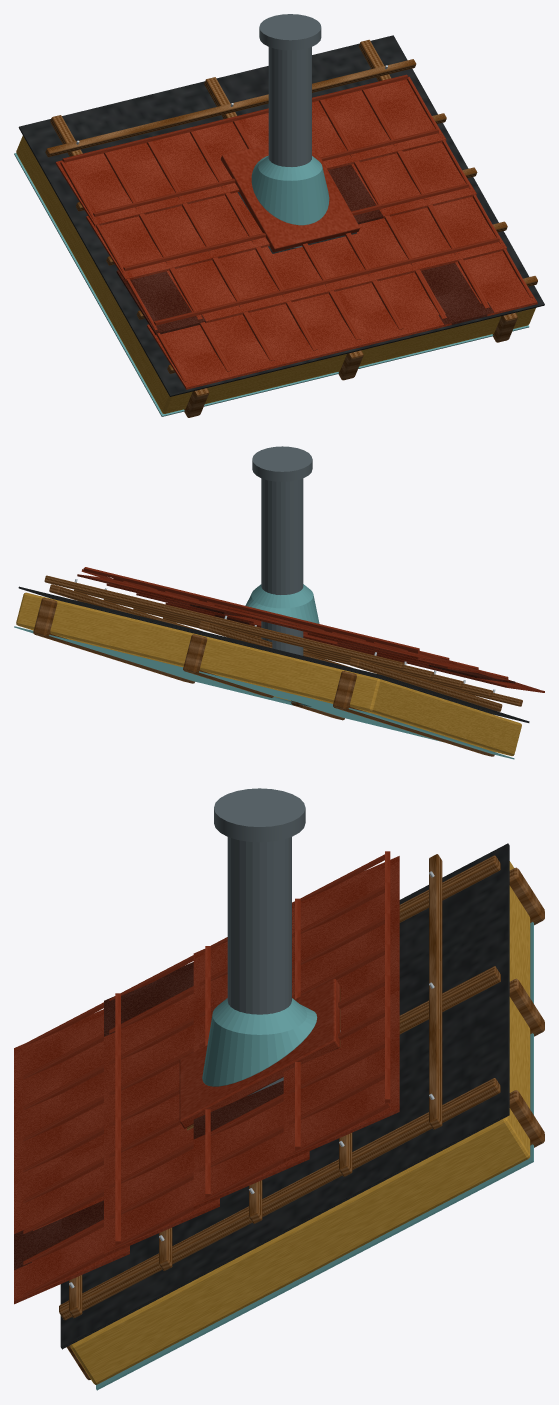
Rendered from modell.glb.
3 views of the same model, one above another, from view 1: azimuth 30°, elevation 25°; view 2: azimuth 150°, elevation 25°; view 3: azimuth 270°, elevation 25° (orthographic). The views are drawn at different scales.
Parts seen in each view (by area): view 1: s11-deckziegel_deckung, s11-zusatzebene_zusatzebene, s11-daemmung_daemmung, s11-rohr_, s11-deckziegel_deckung.001, s11-lattung_lattung, s11-formteil_deckung, s11-formteil_deckung.001, s11-luftdichtheit_luftdichtheit, s11-sparren_tragwerk; view 2: s11-daemmung_daemmung, s11-lattung_lattung, s11-rohr_, s11-deckziegel_deckung, s11-sparren_tragwerk, s11-luftdichtheit_luftdichtheit, s11-zusatzebene_zusatzebene, s11-formteil_deckung.001, s11-deckziegel_deckung.001; view 3: s11-deckziegel_deckung, s11-zusatzebene_zusatzebene, s11-daemmung_daemmung, s11-lattung_lattung, s11-rohr_, s11-formteil_deckung.001, s11-deckziegel_deckung.001, s11-formteil_deckung, s11-luftdichtheit_luftdichtheit, s11-sparren_tragwerk.
Part boxes in pixels (box(x1,y1,x2,y2)): s11-deckziegel_deckung: box(55, 74, 537, 389); s11-zusatzebene_zusatzebene: box(18, 35, 544, 396); s11-daemmung_daemmung: box(16, 136, 535, 413); s11-rohr_: box(259, 14, 321, 247); s11-deckziegel_deckung.001: box(116, 164, 494, 335); s11-lattung_lattung: box(45, 39, 537, 373); s11-formteil_deckung: box(221, 142, 359, 252); s11-formteil_deckung.001: box(251, 155, 329, 225); s11-luftdichtheit_luftdichtheit: box(14, 153, 529, 416); s11-sparren_tragwerk: box(184, 312, 517, 417); s11-daemmung_daemmung: box(16, 592, 521, 755); s11-lattung_lattung: box(44, 575, 522, 711); s11-rohr_: box(252, 446, 312, 655); s11-deckziegel_deckung: box(77, 567, 544, 692); s11-sparren_tragwerk: box(33, 598, 494, 756); s11-luftdichtheit_luftdichtheit: box(14, 626, 514, 759); s11-zusatzebene_zusatzebene: box(18, 586, 529, 722); s11-formteil_deckung.001: box(245, 584, 319, 623); s11-deckziegel_deckung.001: box(190, 604, 515, 683); s11-deckziegel_deckung: box(14, 851, 399, 1304); s11-zusatzebene_zusatzebene: box(60, 843, 509, 1349); s11-daemmung_daemmung: box(70, 861, 530, 1384); s11-lattung_lattung: box(59, 854, 500, 1320); s11-rohr_: box(214, 788, 305, 1095); s11-formteil_deckung.001: box(202, 998, 317, 1086); s11-deckziegel_deckung.001: box(14, 962, 283, 1270); s11-formteil_deckung: box(179, 978, 339, 1128); s11-luftdichtheit_luftdichtheit: box(96, 922, 533, 1390); s11-sparren_tragwerk: box(66, 867, 544, 1379).
Bounding box in the file's own units: 2.09 × 1.65 × 1.74.
8 materials, 5 textured.
